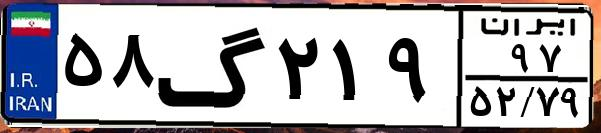1: (330, 28, 385, 110)
2: (270, 28, 330, 110), (495, 70, 520, 125)
5: (57, 26, 110, 100), (470, 70, 495, 125)
7: (537, 27, 568, 80), (535, 70, 560, 125)
8: (110, 28, 156, 98)
9: (385, 28, 445, 110), (560, 70, 590, 125), (508, 27, 537, 80)
گ: (156, 12, 270, 120)
